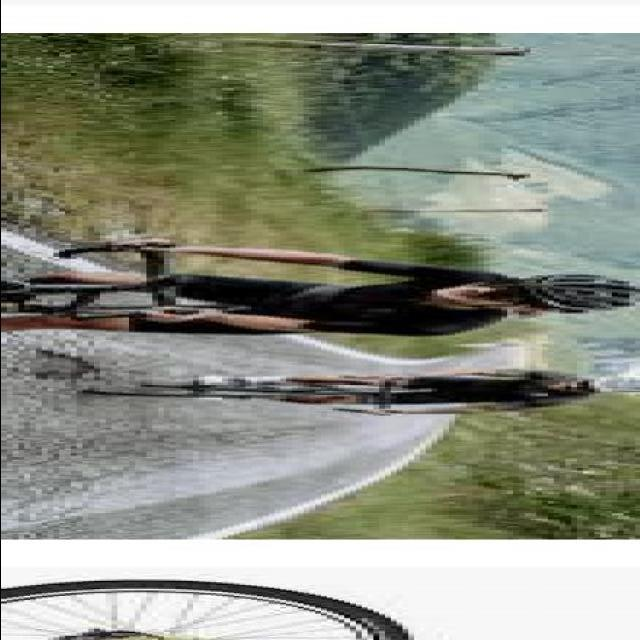bicycle: (6, 582, 408, 640), (1, 239, 217, 323), (83, 377, 449, 407)
